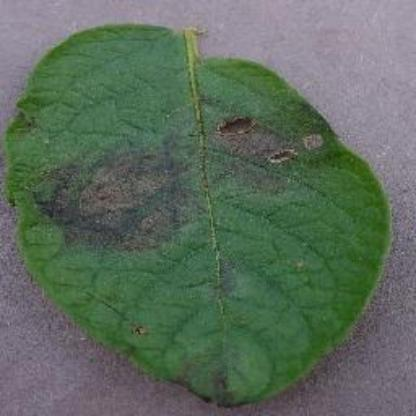Late-Blight: (14, 2, 390, 400)
